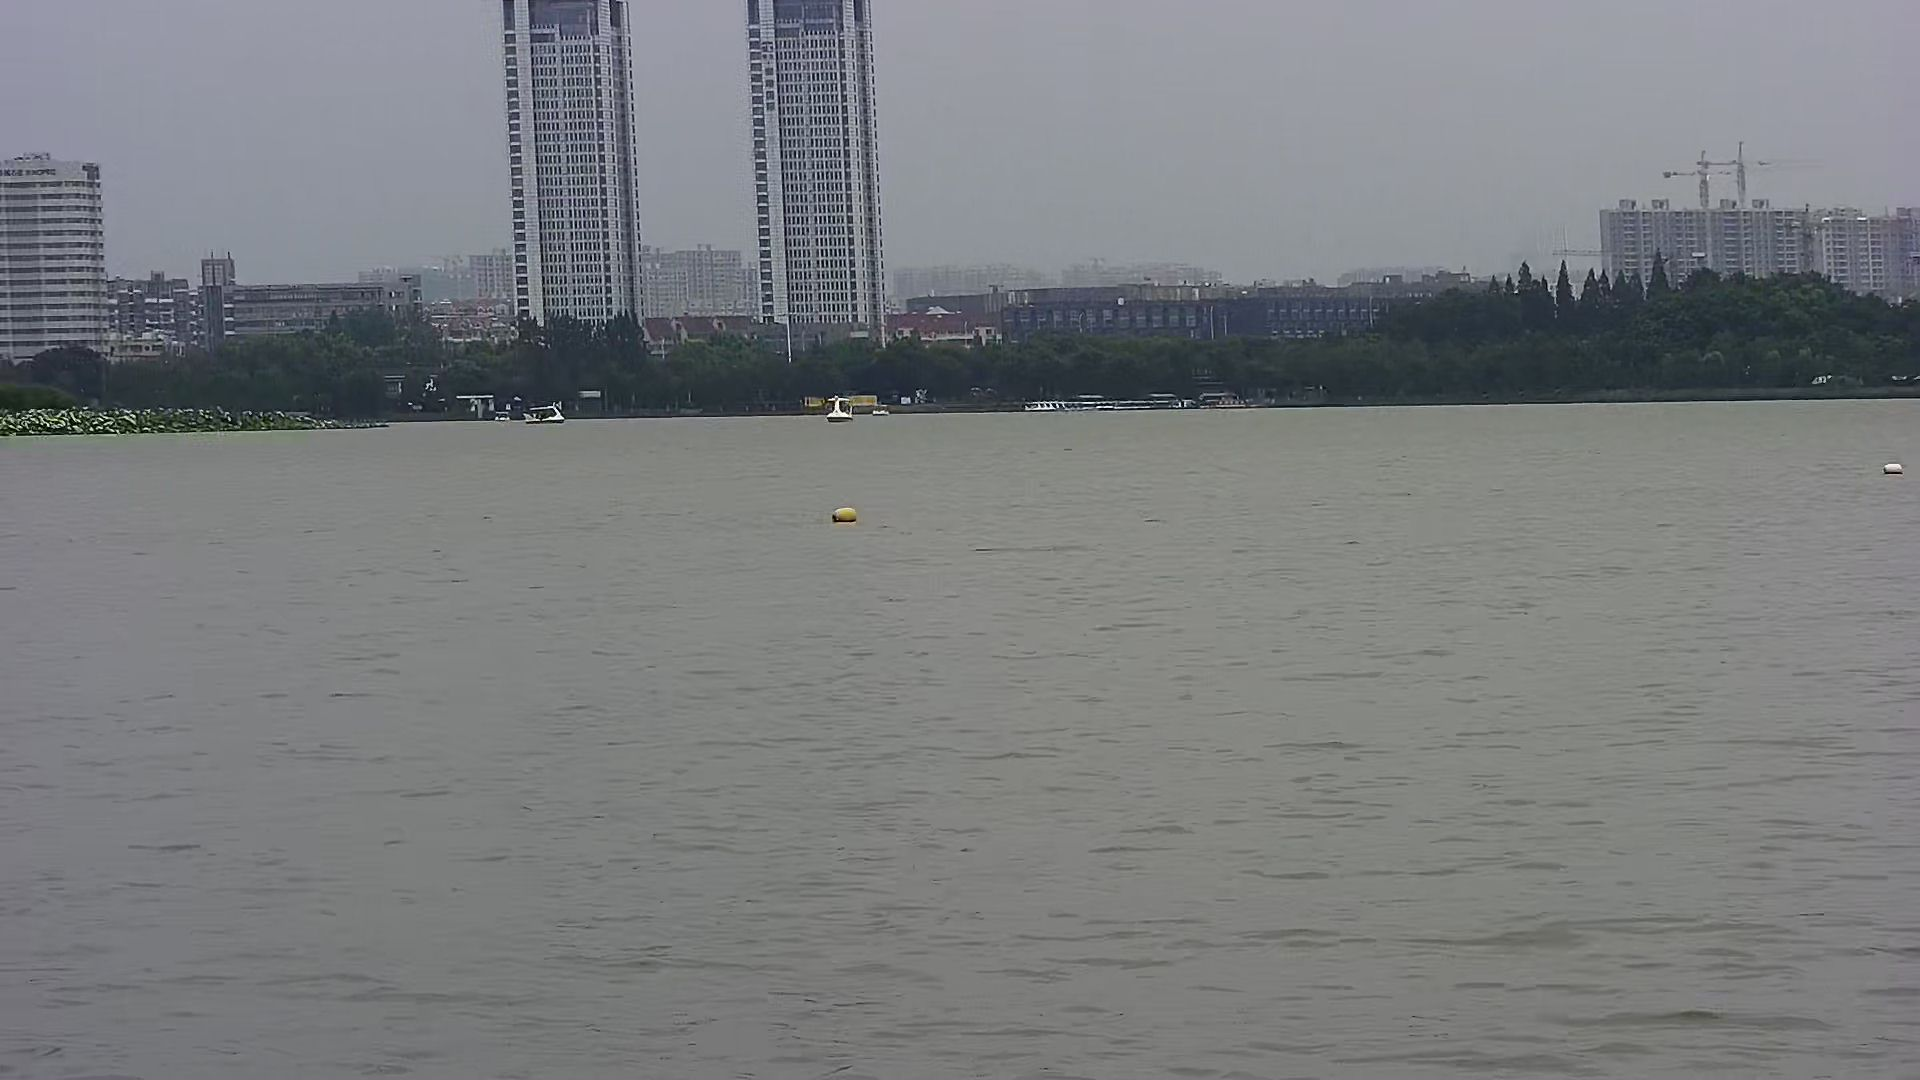grass: (13, 409, 330, 436)
rubbish: (1874, 454, 1907, 477), (829, 498, 858, 524)
